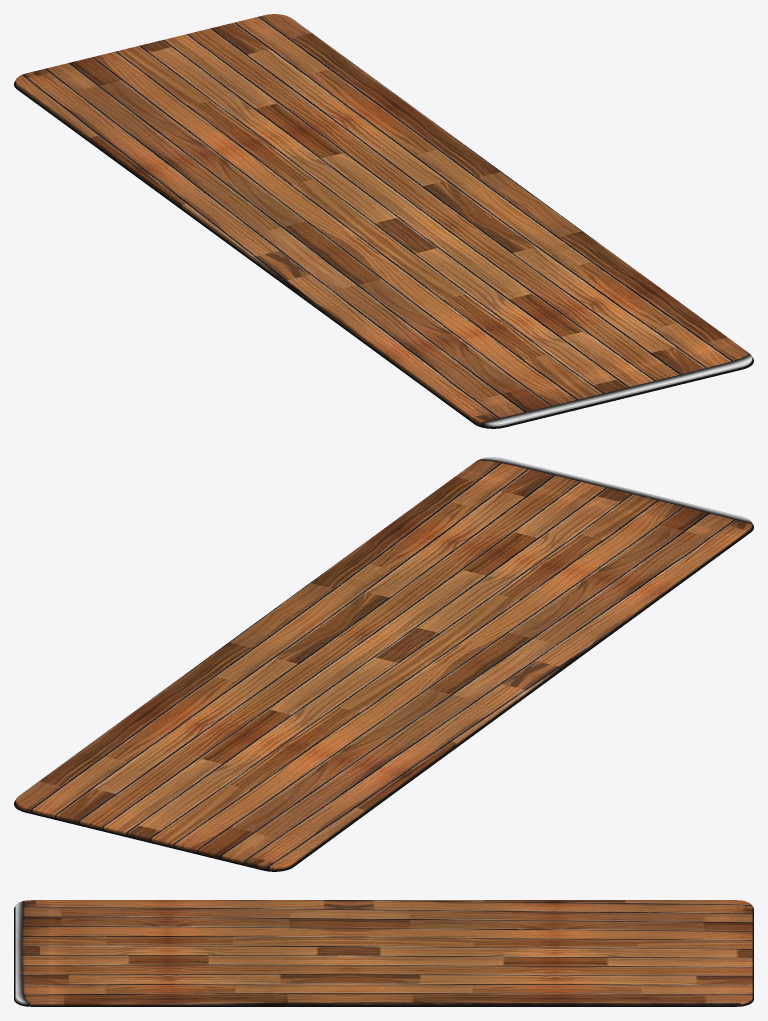
Rendered from canway_mat.glb.
3 views of the same model, one above another, from view 1: azimuth 30°, elevation 25°; view 2: azimuth 150°, elevation 25°; view 3: azimuth 270°, elevation 25° (orthographic). The views are drawn at different scales.
Visible parts, largest first — view 1: CANWAY Wood Print Kitchen Runner; view 2: CANWAY Wood Print Kitchen Runner; view 3: CANWAY Wood Print Kitchen Runner.
Part boxes in pixels (box(x1,y1,x2,y2)): CANWAY Wood Print Kitchen Runner: box(14, 14, 753, 428); CANWAY Wood Print Kitchen Runner: box(14, 457, 753, 871); CANWAY Wood Print Kitchen Runner: box(14, 900, 753, 1006).
Size of the model in its own units: 0.4 by 0.006 by 1.2.
Materials: 2 (1 with a texture image).
